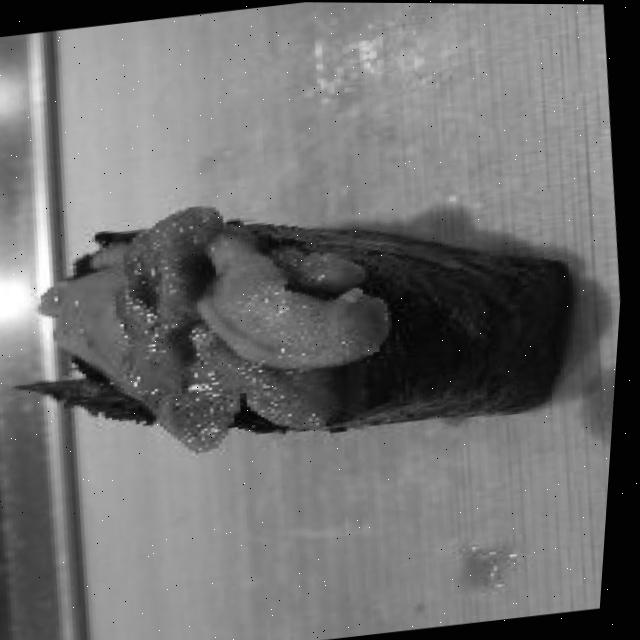寿司卷物: (0, 151, 612, 491)
